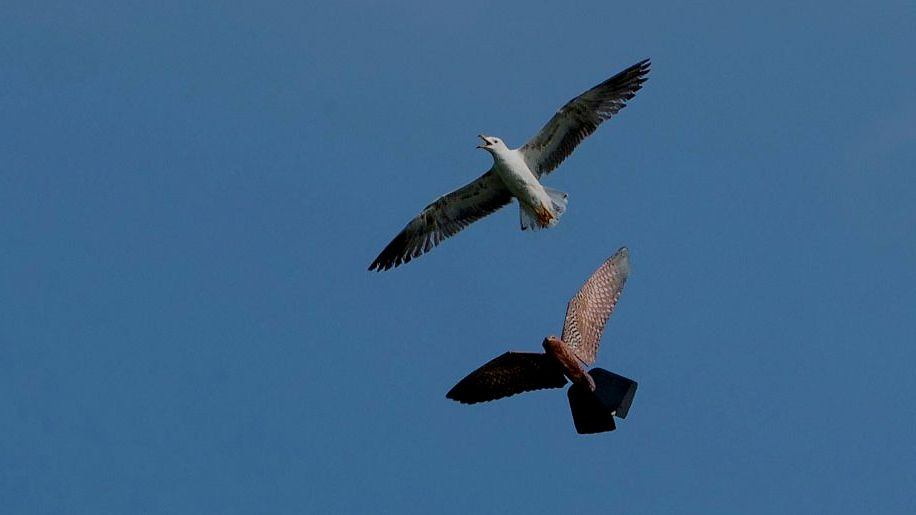Bird: (359, 49, 660, 275), (444, 238, 647, 444)
